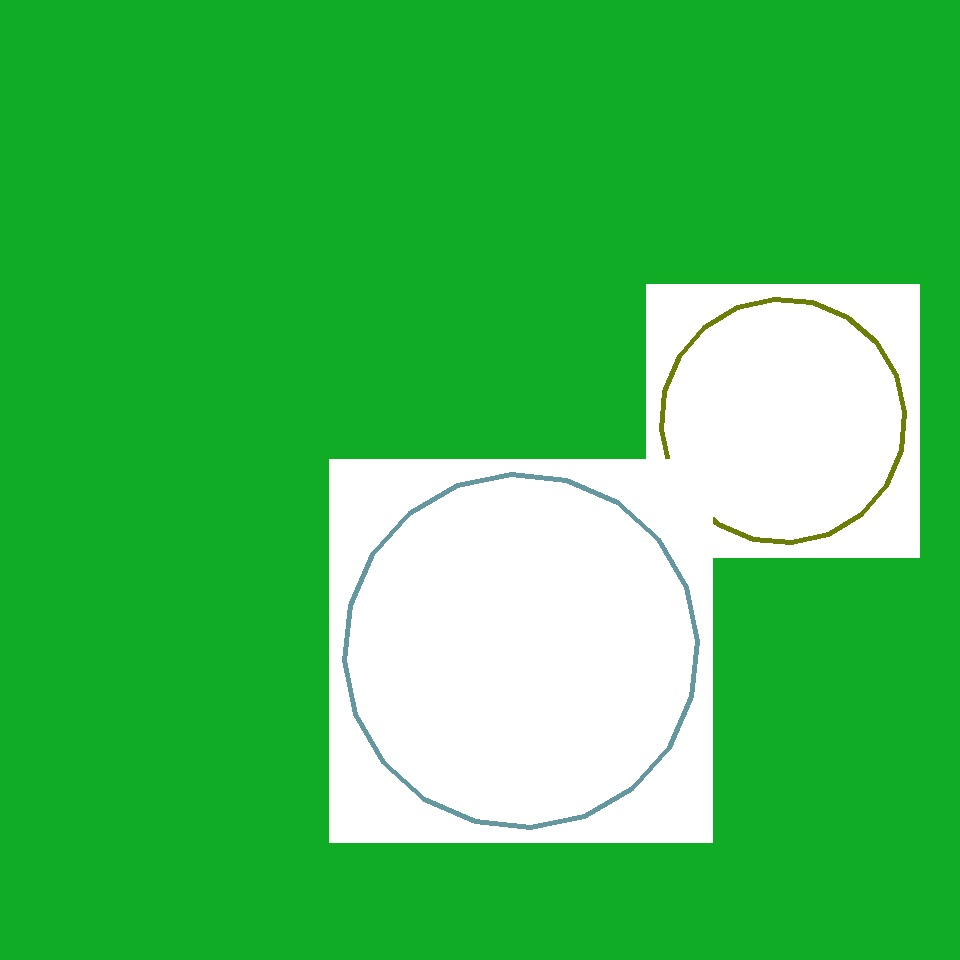triangle: (344, 474, 698, 828), (42, 159, 368, 484), (82, 428, 370, 715), (17, 86, 298, 368), (662, 300, 905, 542), (636, 142, 830, 336)
